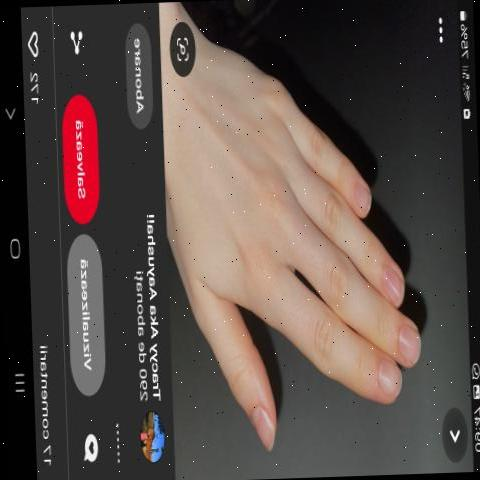Hands: (156, 12, 464, 472)
